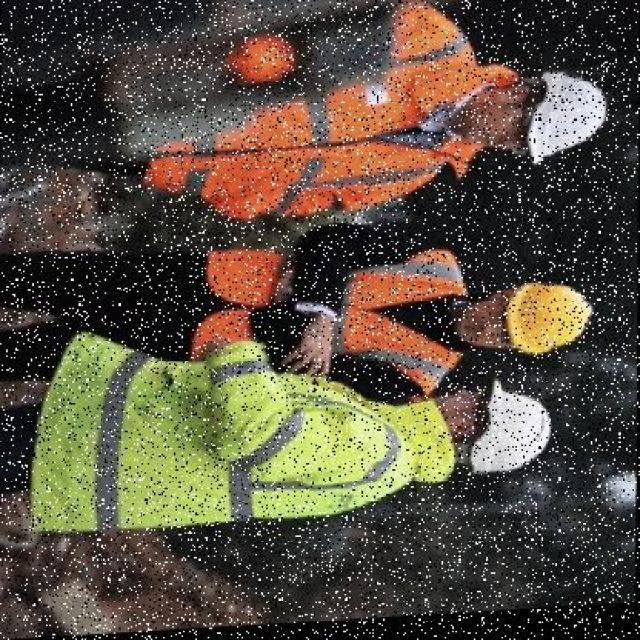helmet: (522, 72, 612, 178), (466, 380, 552, 484), (500, 283, 598, 367)
vest: (126, 57, 484, 213), (34, 391, 414, 535), (191, 257, 464, 408)
